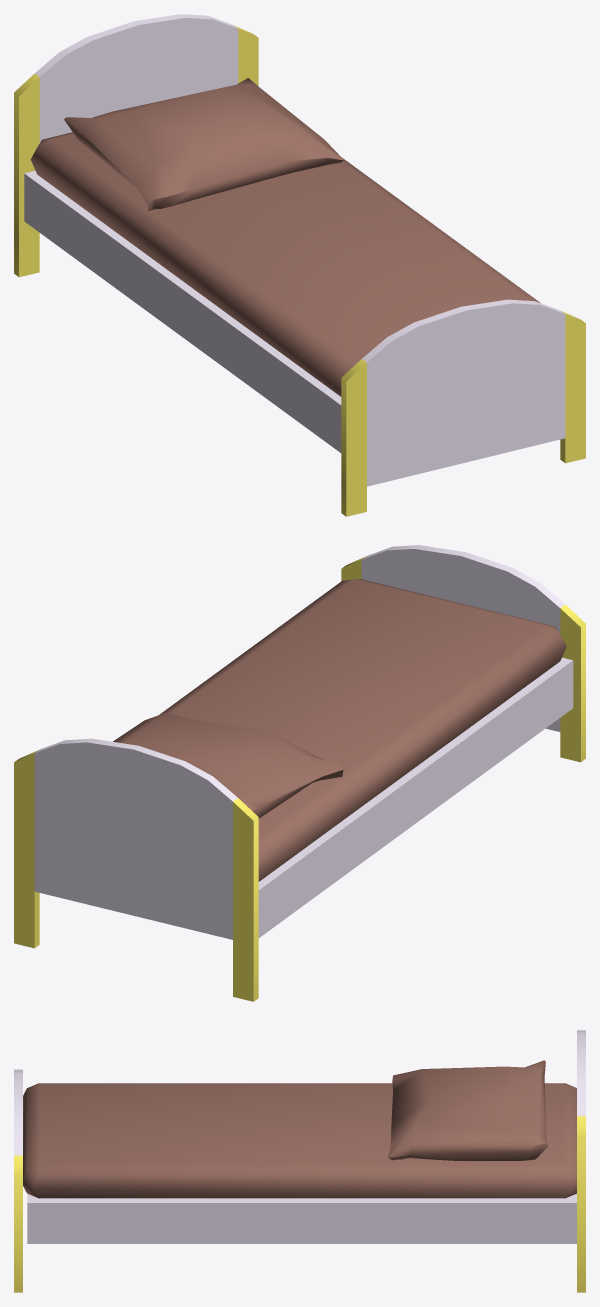
The model's file is bed_010.glb.
3 views of the same model, one above another, from view 1: azimuth 30°, elevation 25°; view 2: azimuth 150°, elevation 25°; view 3: azimuth 270°, elevation 25° (orthographic). The views are drawn at different scales.
Visible parts, largest first — view 1: bed_010; view 2: bed_010; view 3: bed_010.
Boxes of the visible parts, x1,y1,x2,y2 form: bed_010: [14, 14, 585, 516]; bed_010: [14, 545, 585, 1001]; bed_010: [14, 1030, 585, 1292].
Bounding box in the file's own units: 0.6949 × 0.6181 × 1.67.
Materials: 1 (1 with a texture image).
